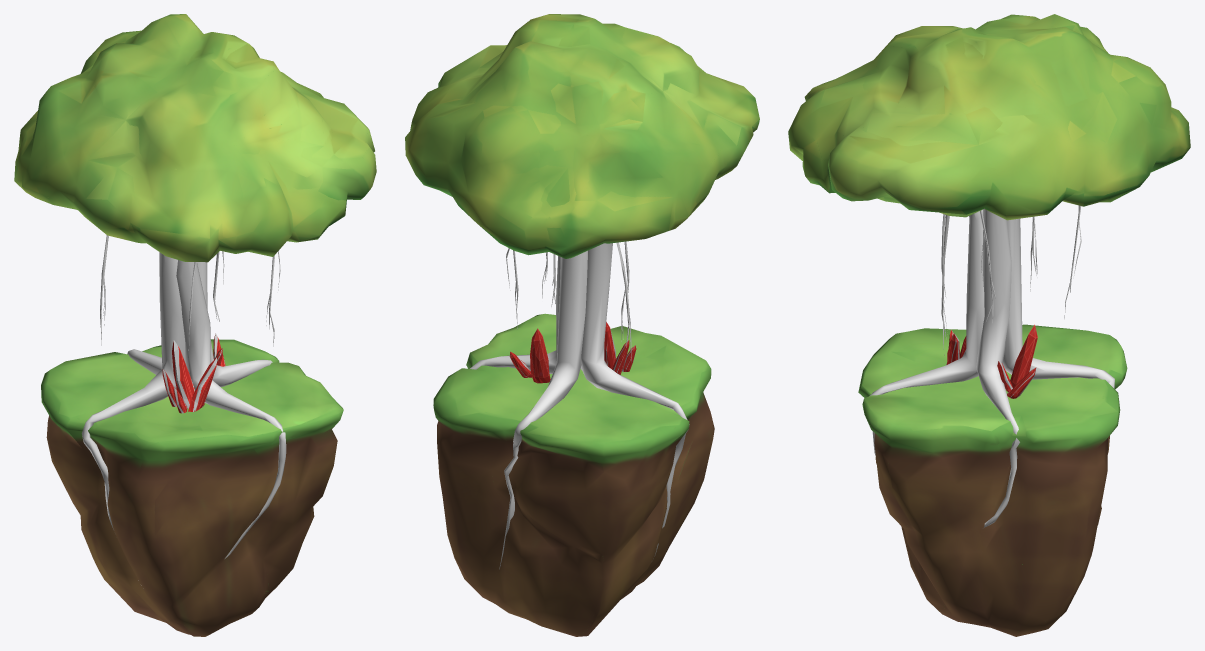
File: floating tree4.fbx
3 renders of one model, left to right at view 1: azimuth 30°, elevation 25°; view 2: azimuth 150°, elevation 25°; view 3: azimuth 270°, elevation 25°, orthographic. The views are drawn at different scales.
Parts seen in each view (by area): view 1: Icosphere.041, rock1HP.003, NurbsPath.030, Icosphere.045, Icosphere.046; view 2: Icosphere.041, rock1HP.003, NurbsPath.030, Icosphere.042; view 3: Icosphere.041, rock1HP.003, NurbsPath.030, Icosphere.042.
Part boxes in pixels (bbox=[...]): Icosphere.041: bbox=[14, 14, 376, 262]; rock1HP.003: bbox=[41, 339, 343, 636]; NurbsPath.030: bbox=[82, 235, 286, 585]; Icosphere.045: bbox=[172, 340, 195, 408]; Icosphere.046: bbox=[188, 357, 216, 411]; Icosphere.041: bbox=[405, 14, 759, 258]; rock1HP.003: bbox=[433, 313, 714, 636]; NurbsPath.030: bbox=[470, 241, 689, 569]; Icosphere.042: bbox=[530, 328, 550, 383]; Icosphere.041: bbox=[788, 14, 1190, 220]; rock1HP.003: bbox=[858, 324, 1127, 636]; NurbsPath.030: bbox=[870, 205, 1114, 528]; Icosphere.042: bbox=[1010, 324, 1037, 387].
Bounding box in the file's own units: 896 × 1727 × 1056.
4 materials, 3 textured.
